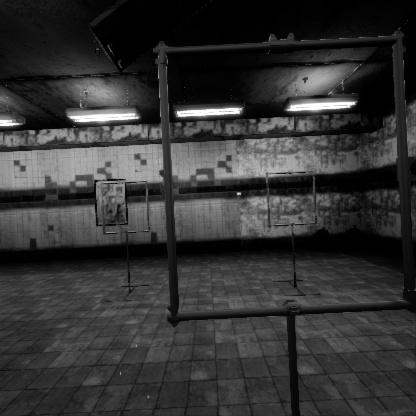gate: (157, 92, 416, 380), (265, 188, 321, 246), (101, 181, 154, 236)
